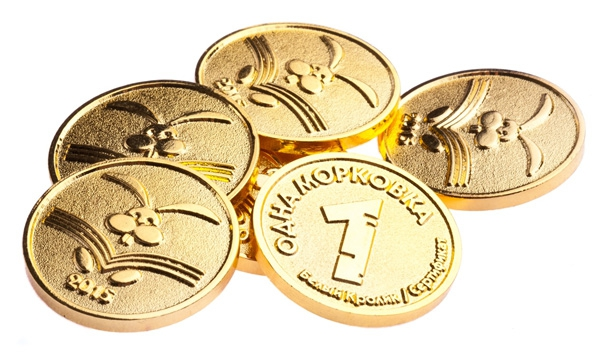coin: (22, 158, 241, 333), (253, 153, 462, 330), (380, 68, 588, 212), (195, 22, 400, 153), (47, 81, 260, 194)
